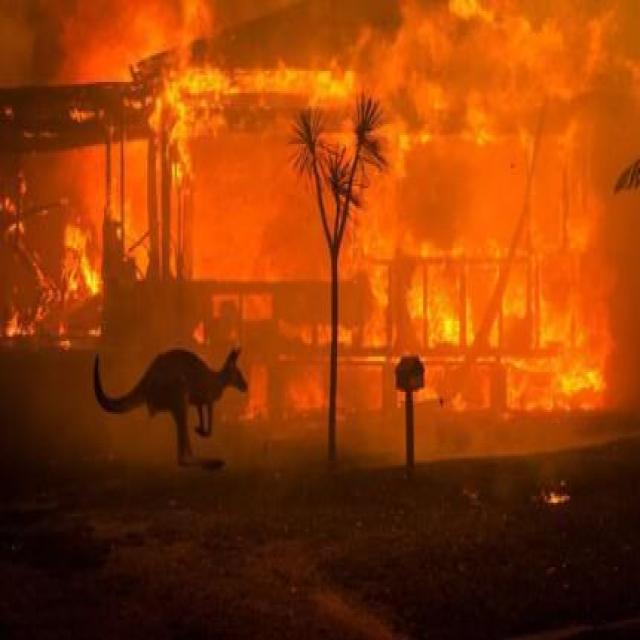fire: (14, 5, 629, 419)
